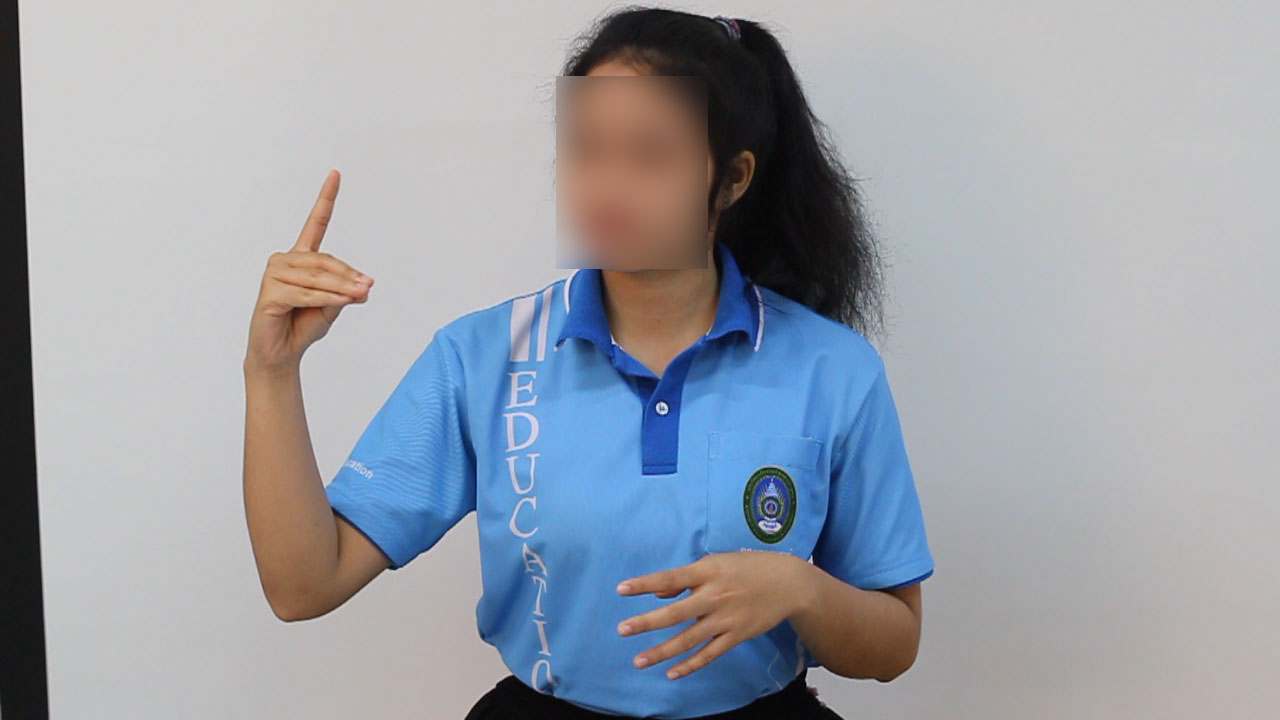dor: (243, 153, 379, 370)
